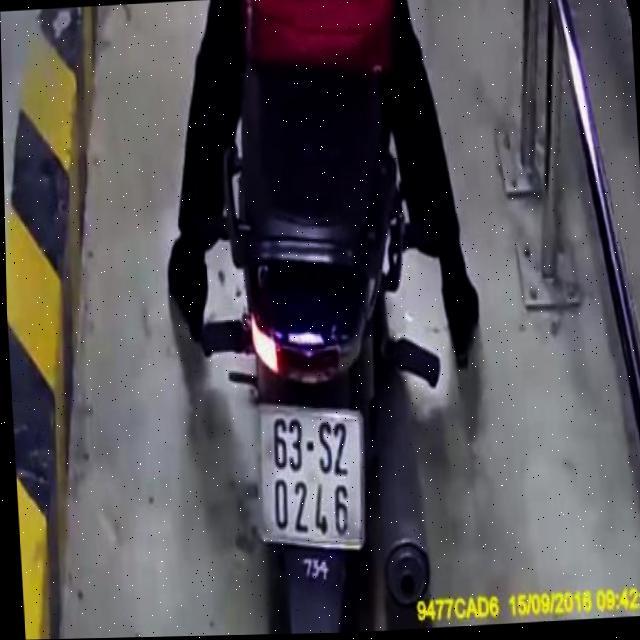motorcycle: (184, 0, 468, 636)
plate: (246, 395, 370, 558)
